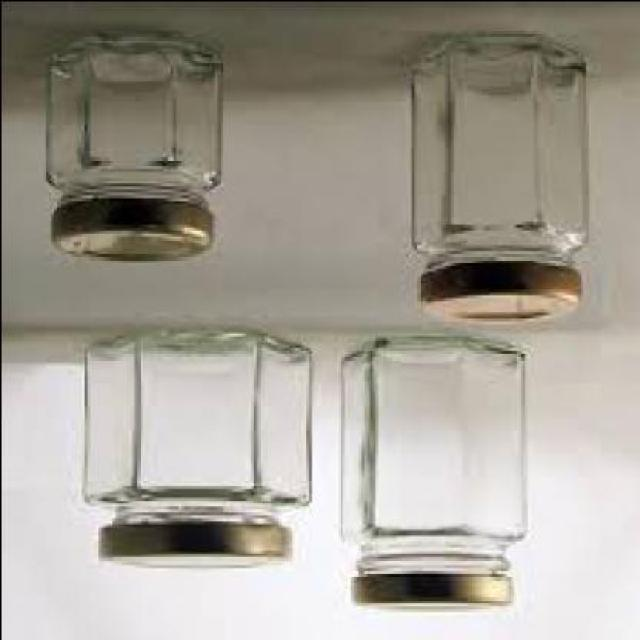GLASS: (77, 328, 308, 526), (333, 340, 521, 578), (407, 29, 585, 274), (41, 35, 219, 212)
METAL: (416, 262, 579, 329), (46, 200, 211, 262), (88, 520, 286, 569), (347, 575, 507, 614)
